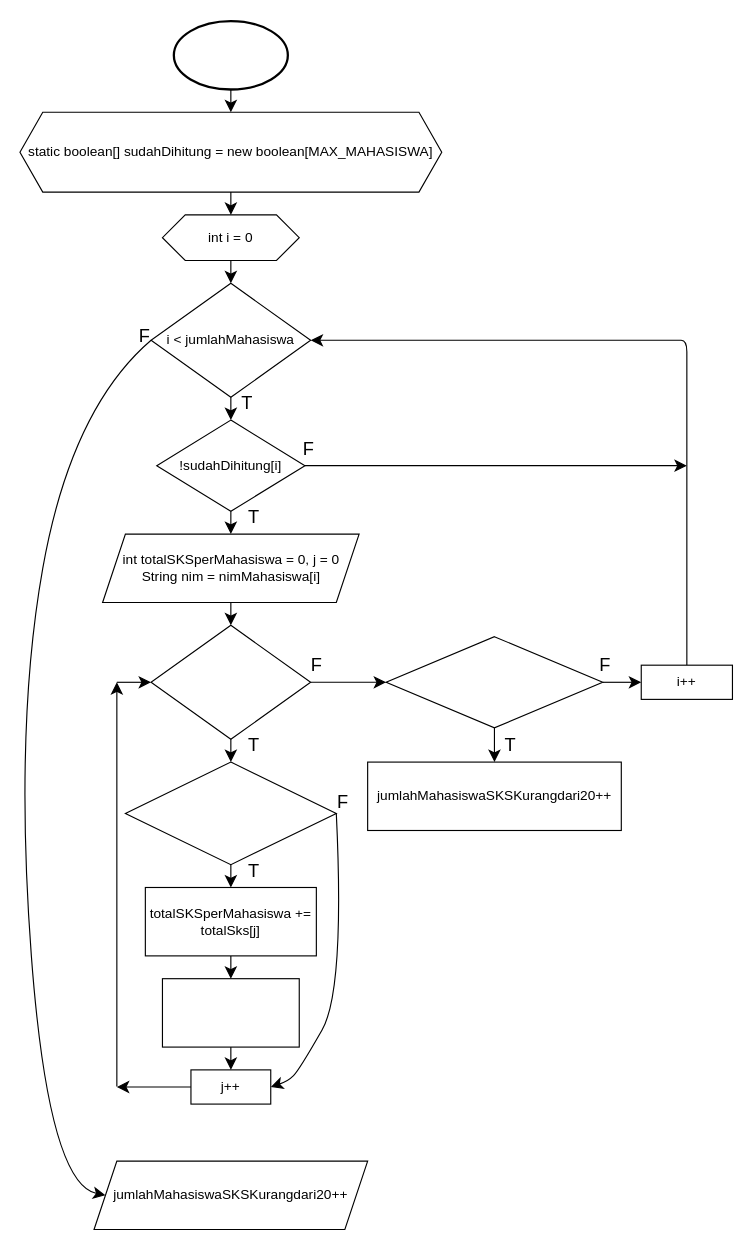
Some shapes in this 752 by 1249 pixel diagram are drawn without their labels. The shapes that lost their labels are listed below. From the top down, each one's box as (x1, y1, x2, y2) in pixels, then its label:
(172, 19, 288, 90): analisisData()
(150, 624, 311, 739): j < jumlahMahasiswa
(385, 636, 603, 728): totalSKSperMahasiswa < 20
(124, 761, 336, 865): nimMahasiswa[j].equals(nim)
(161, 978, 299, 1047): sudahDihitung[j] = true
